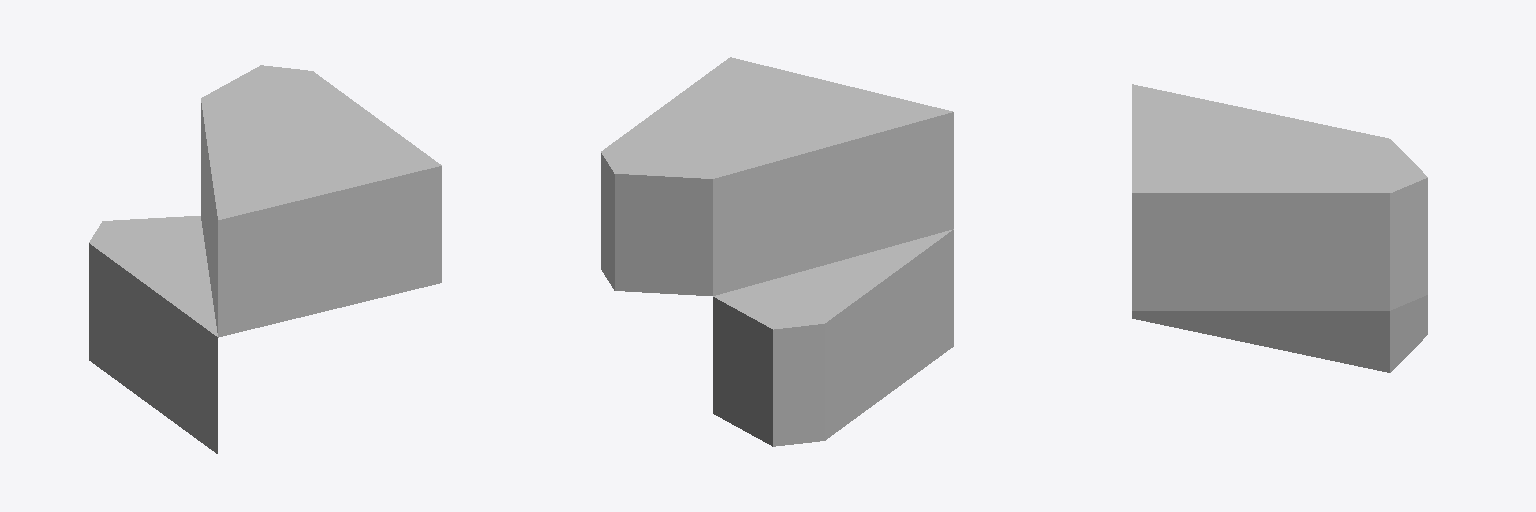
Rendered from spirout_l.obj.
3 renders of one model, left to right at view 1: azimuth 30°, elevation 25°; view 2: azimuth 150°, elevation 25°; view 3: azimuth 270°, elevation 25°, orthographic.
Size of the model in its own units: 1 by 1 by 1.15.